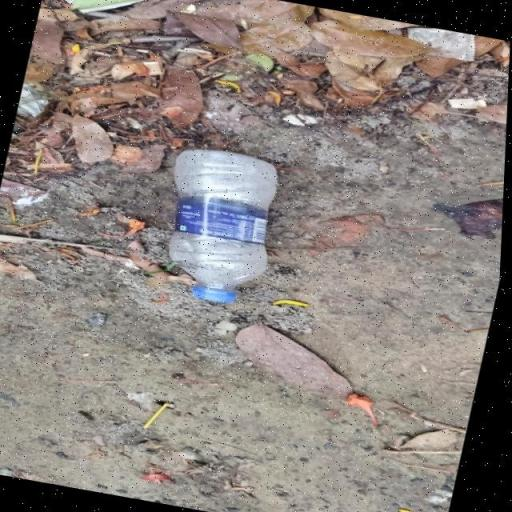plastic: (148, 143, 292, 309)
